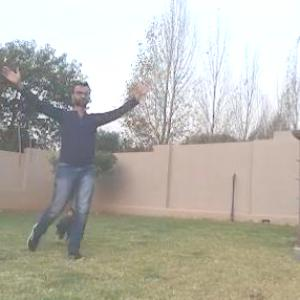takeoff: (2, 82, 129, 258)
